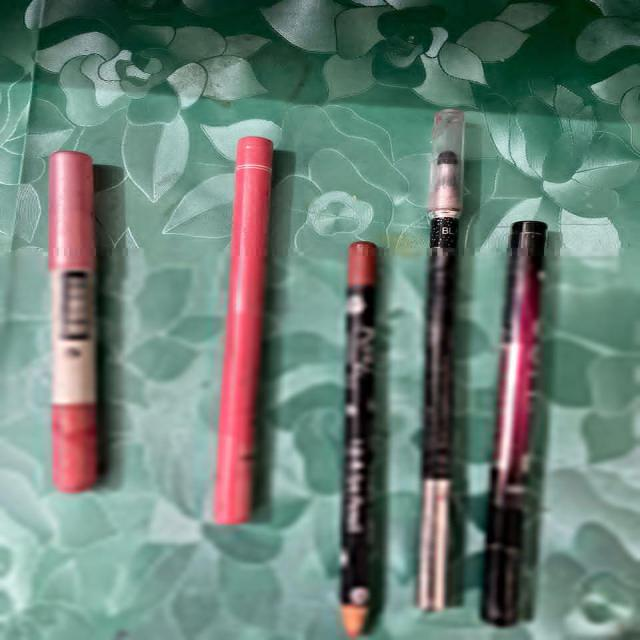eye liner: (398, 96, 488, 614), (474, 196, 570, 627)
lip liner: (180, 127, 294, 535), (306, 225, 391, 640), (30, 137, 121, 508)
